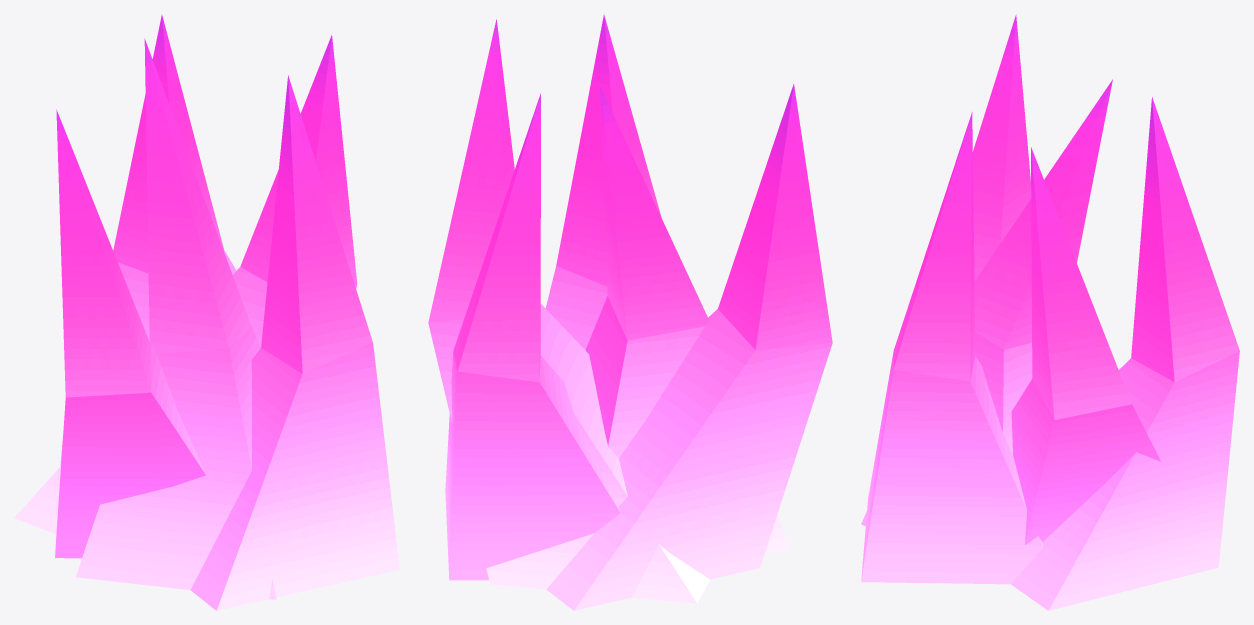
Rendered from fire.glb.
3 renders of one model, left to right at view 1: azimuth 30°, elevation 25°; view 2: azimuth 150°, elevation 25°; view 3: azimuth 270°, elevation 25°, orthographic. The views are drawn at different scales.
Visible parts, largest first — view 1: engine_fire.003; view 2: engine_fire.003; view 3: engine_fire.003.
Boxes of the visible parts, x1,y1,x2,y2 form: engine_fire.003: (14,15,399,610); engine_fire.003: (428,14,832,610); engine_fire.003: (861,14,1239,610).
Bounding box in the file's own units: 0.4851 × 0.6374 × 0.4912.
Materials: 1 (1 with a texture image).
